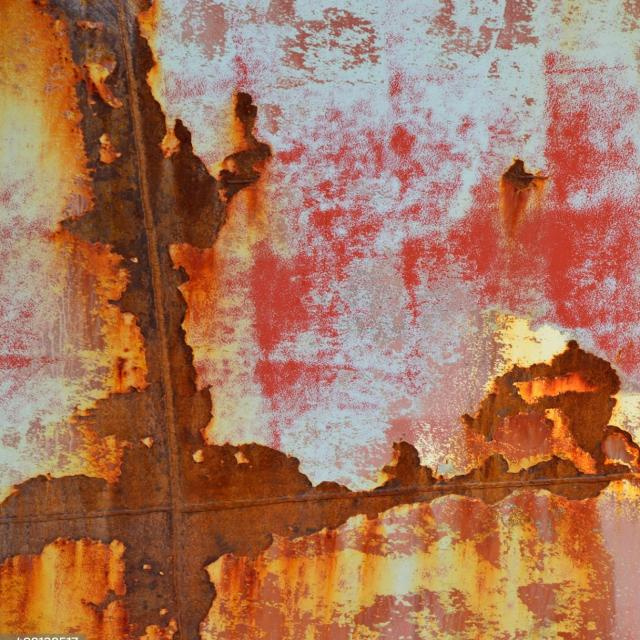Uniform Corrosion: (0, 0, 608, 640), (463, 341, 619, 461), (218, 92, 271, 201), (383, 441, 435, 488), (520, 457, 578, 479), (503, 159, 535, 190), (480, 455, 508, 481)
